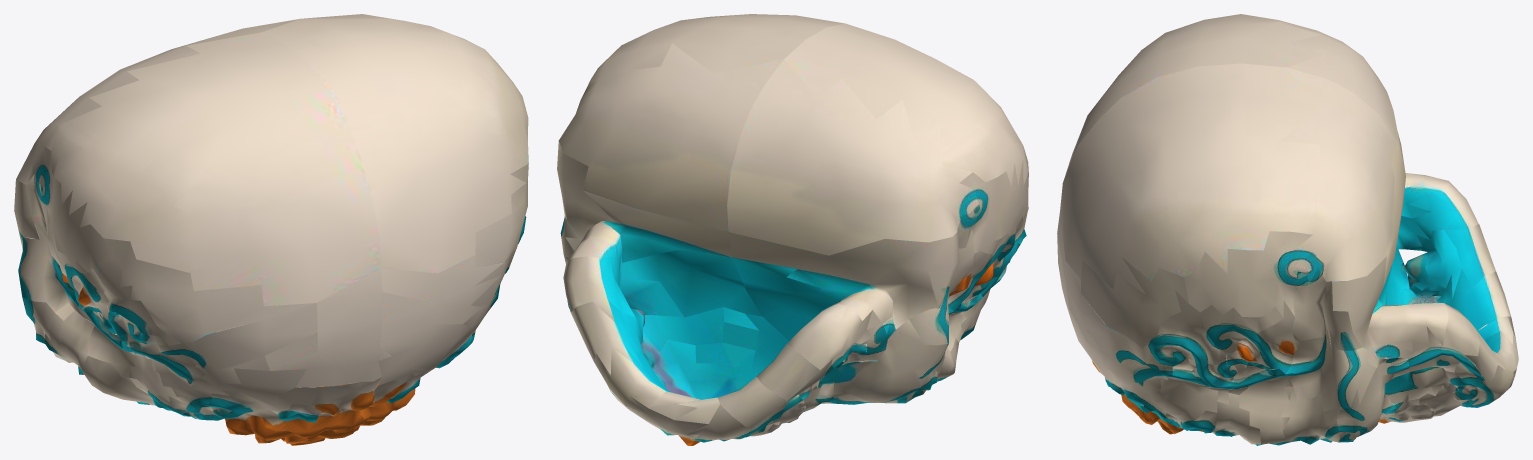
The model's file is sugar_skull_giant.glb.
The picture shows the model from 3 angles, left to right: view 1: azimuth 30°, elevation 25°; view 2: azimuth 150°, elevation 25°; view 3: azimuth 270°, elevation 25°; orthographic projection. The views are drawn at different scales.
Parts seen in each view (by area): view 1: sugar_skull_giant; view 2: sugar_skull_giant; view 3: sugar_skull_giant.
Part boxes in pixels (x1,y1,x2,y2): sugar_skull_giant: (14,14,528,445); sugar_skull_giant: (557,14,1028,445); sugar_skull_giant: (1057,14,1518,445).
Bounding box in the file's own units: 1.4 × 1.1 × 1.3.
1 material, 1 textured.
